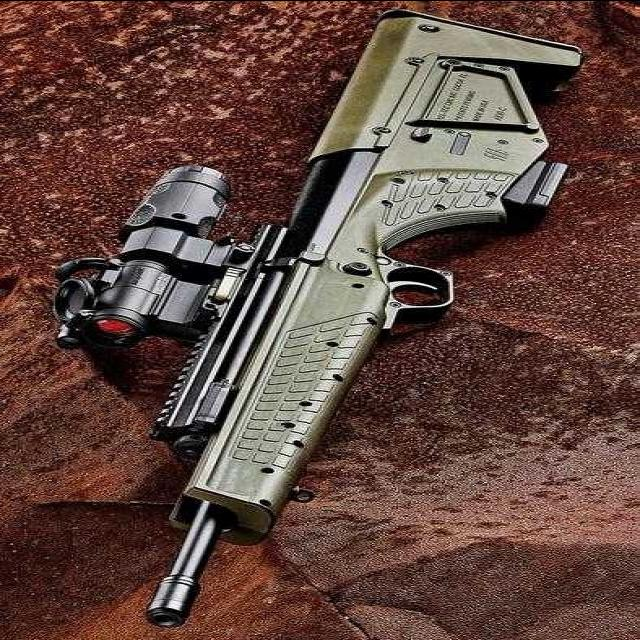heavyweapon: (63, 6, 597, 640)
